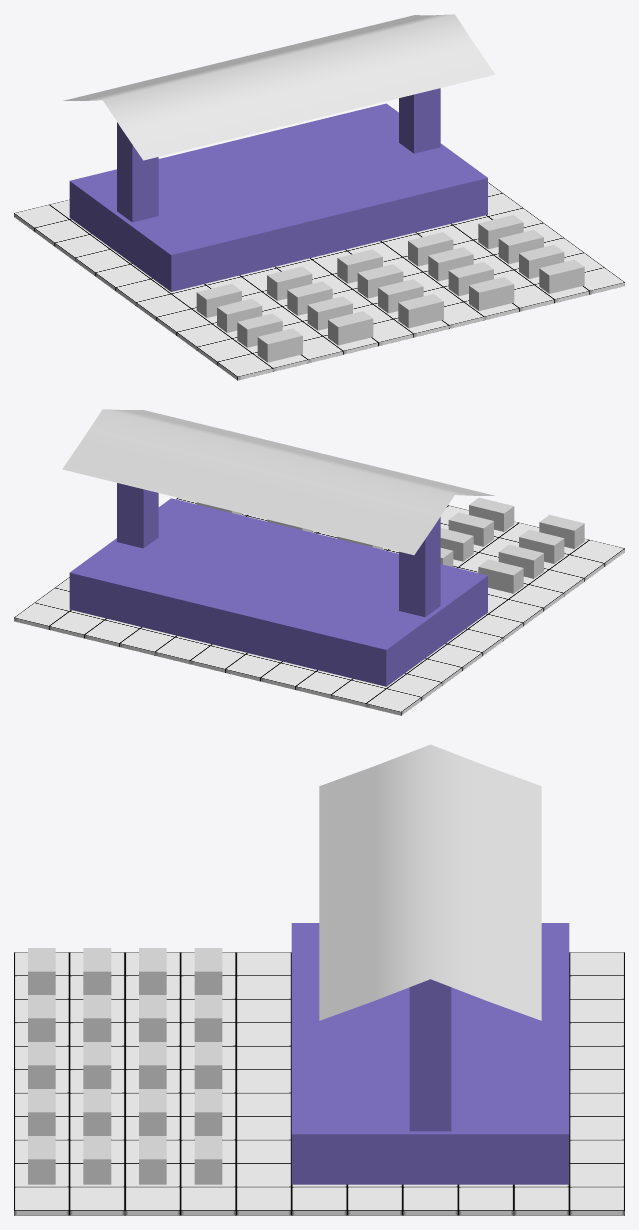
File: XG_Theater.glb
3 renders of one model, top to bottom at view 1: azimuth 30°, elevation 25°; view 2: azimuth 150°, elevation 25°; view 3: azimuth 270°, elevation 25°, orthographic. The views are drawn at different scales.
Parts seen in each view (by area): view 1: building_3m_3m_014, Plane001, building_3m_3m_013, building_3m_3m_012, Box011, Box015, Box019, Box027, Box023, Box021, Box012, Box013 (+29 smaller); view 2: building_3m_3m_014, Plane001, building_3m_3m_013, building_3m_3m_012, Box008, Box014, Box010, Box009, Box015, Box011, 1m_base_block_3360, 1m_base_block_3357 (+21 smaller); view 3: Plane001, building_3m_3m_014, building_3m_3m_012, 1m_base_block_3418, 1m_base_block_3420, 1m_base_block_3423, 1m_base_block_3417, 1m_base_block_3419, 1m_base_block_3421, 1m_base_block_3422, 1m_base_block_3424, 1m_base_block_3425 (+82 smaller).
Boxes of the visible parts, x1,y1,x2,y2 form: building_3m_3m_014: (69, 103, 487, 291); Plane001: (63, 14, 495, 160); building_3m_3m_013: (117, 122, 158, 222); building_3m_3m_012: (399, 88, 440, 153); Box011: (257, 328, 302, 362); Box015: (328, 311, 373, 345); Box019: (539, 259, 584, 293); Box027: (469, 277, 514, 310); Box023: (398, 294, 443, 328); Box021: (357, 264, 403, 298); Box012: (267, 266, 312, 300); Box013: (287, 281, 332, 315); building_3m_3m_014: (69, 498, 487, 686); Plane001: (62, 409, 494, 555); building_3m_3m_013: (399, 517, 440, 616); building_3m_3m_012: (117, 483, 158, 548); Box008: (478, 559, 523, 593); Box014: (448, 512, 493, 546); Box010: (519, 529, 564, 563); Box009: (498, 544, 543, 578); Box015: (469, 497, 514, 531); Box011: (539, 514, 584, 548); 1m_base_block_3360: (366, 688, 421, 715); 1m_base_block_3357: (295, 671, 350, 698); Plane001: (319, 744, 541, 1020); building_3m_3m_014: (291, 923, 569, 1184); building_3m_3m_012: (409, 979, 451, 1131); 1m_base_block_3418: (402, 1187, 458, 1215); 1m_base_block_3420: (291, 1187, 347, 1215); 1m_base_block_3423: (180, 1187, 236, 1215); 1m_base_block_3417: (458, 1187, 513, 1215); 1m_base_block_3419: (347, 1187, 402, 1215); 1m_base_block_3421: (236, 1187, 291, 1215); 1m_base_block_3422: (514, 1187, 569, 1215); 1m_base_block_3424: (125, 1187, 180, 1215); 1m_base_block_3425: (569, 1187, 624, 1215).
Bounding box in the file's own units: 11 × 4.46 × 11.
2 materials, 1 textured.
